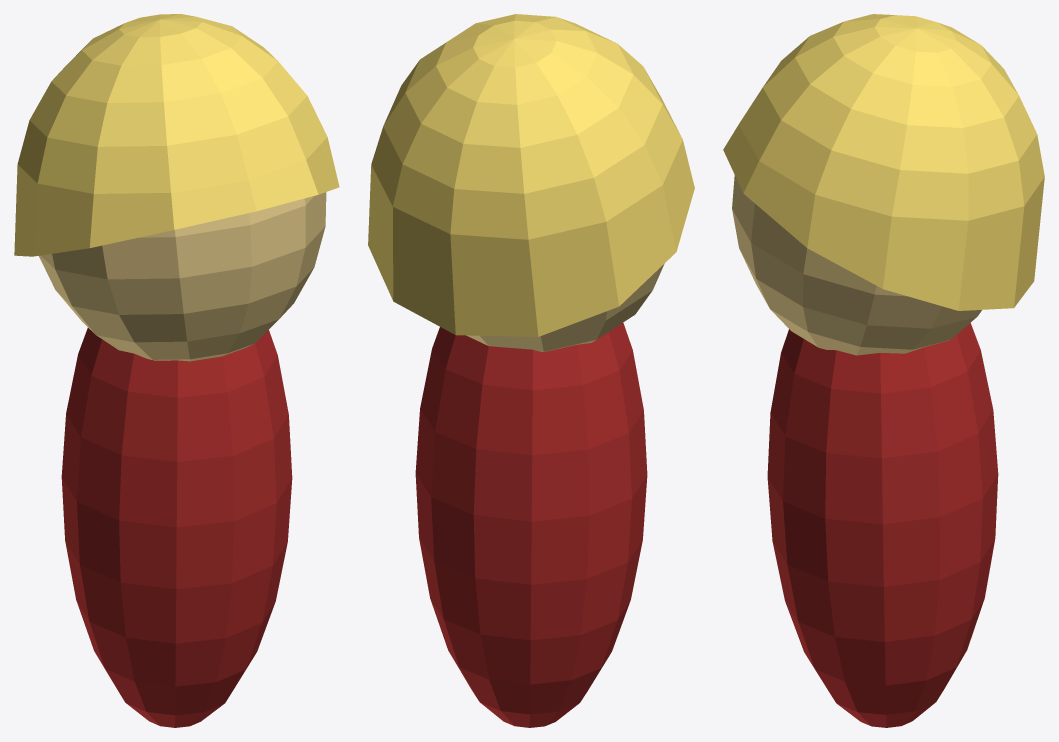
The model's file is boy.fbx.
3 renders of one model, left to right at view 1: azimuth 30°, elevation 25°; view 2: azimuth 150°, elevation 25°; view 3: azimuth 270°, elevation 25°, orthographic.
Parts seen in each view (by area): view 1: Sphere.001, Sphere.002, Sphere; view 2: Sphere.002, Sphere.001, Sphere; view 3: Sphere.001, Sphere.002, Sphere.
Boxes of the visible parts, x1,y1,x2,y2 form: Sphere.001: (61,328,292,727); Sphere.002: (14,14,339,256); Sphere: (39,192,326,361); Sphere.002: (368,14,694,336); Sphere.001: (415,323,647,727); Sphere: (466,264,664,351); Sphere.001: (767,323,998,727); Sphere.002: (723,14,1044,310); Sphere: (732,175,981,355).
Bounding box in the file's own units: 252 × 580 × 243.
